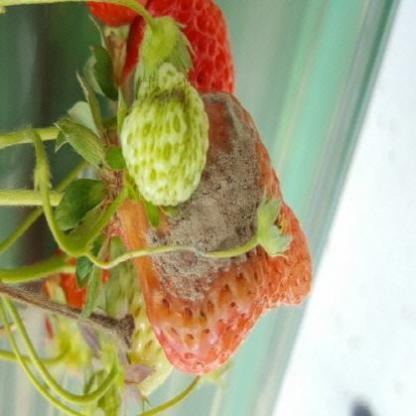Strawberry_Gray_Mold: (119, 90, 284, 352)
